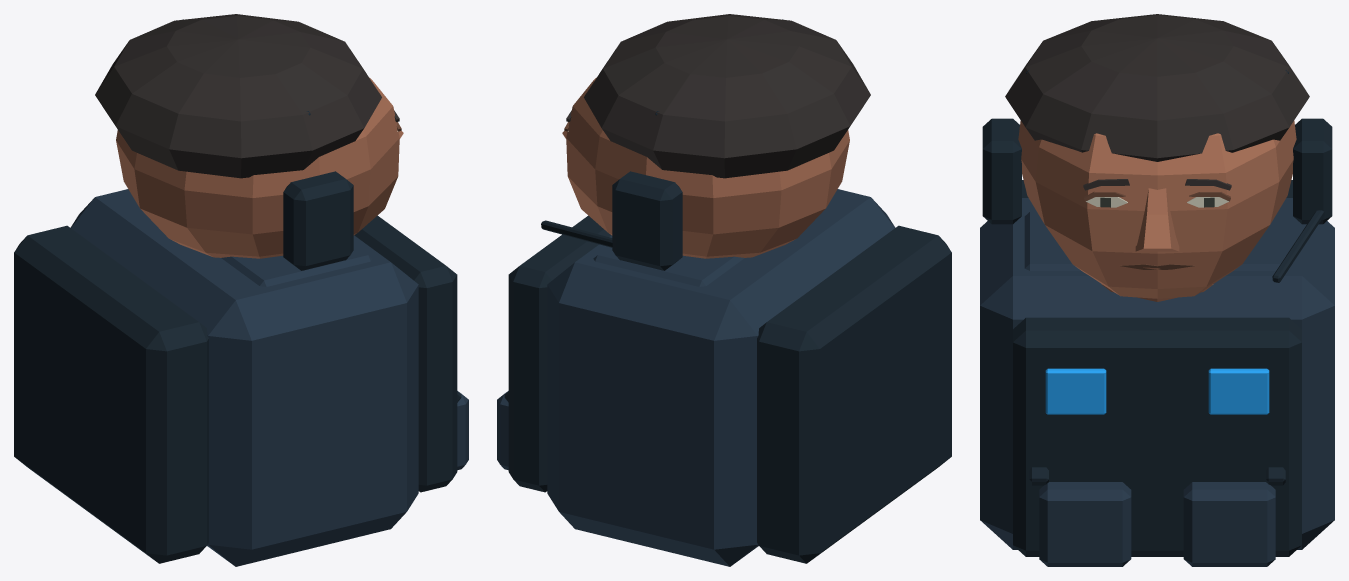
Rendered from blue-strike.helmet-off.glb.
3 views of the same model, side by side, from view 1: azimuth 30°, elevation 25°; view 2: azimuth 150°, elevation 25°; view 3: azimuth 270°, elevation 25° (orthographic). The views are drawn at different scales.
Parts seen in each view (by area): view 1: blue-strike_helmet-off__main__torso_finish_26384a_0.03, blue-strike_helmet-off__main__torso_finish_182631_0.03, blue-strike_helmet-off__main__head_finish_312d2c_0.03, blue-strike_helmet-off__main__head, blue-strike_helmet-off__main__head_finish_182631_0.03; view 2: blue-strike_helmet-off__main__torso_finish_26384a_0.03, blue-strike_helmet-off__main__torso_finish_182631_0.03, blue-strike_helmet-off__main__head_finish_312d2c_0.03, blue-strike_helmet-off__main__head, blue-strike_helmet-off__main__head_finish_182631_0.03; view 3: blue-strike_helmet-off__main__torso_finish_26384a_0.03, blue-strike_helmet-off__main__torso_finish_182631_0.03, blue-strike_helmet-off__main__head_finish_312d2c_0.03, blue-strike_helmet-off__main__head, blue-strike_helmet-off__main__head_finish_182631_0.03, blue-strike_helmet-off__main__torso_finish_25a8ff_0.03.
Boxes of the visible parts, box(x1,y1,x2,y2) form: blue-strike_helmet-off__main__torso_finish_26384a_0.03: box(70, 189, 468, 566); blue-strike_helmet-off__main__torso_finish_182631_0.03: box(14, 215, 461, 563); blue-strike_helmet-off__main__head_finish_312d2c_0.03: box(95, 14, 381, 178); blue-strike_helmet-off__main__head: box(116, 77, 403, 258); blue-strike_helmet-off__main__head_finish_182631_0.03: box(182, 19, 353, 270); blue-strike_helmet-off__main__torso_finish_26384a_0.03: box(497, 189, 895, 566); blue-strike_helmet-off__main__torso_finish_182631_0.03: box(504, 215, 951, 563); blue-strike_helmet-off__main__head_finish_312d2c_0.03: box(584, 14, 870, 178); blue-strike_helmet-off__main__head: box(562, 77, 849, 258); blue-strike_helmet-off__main__head_finish_182631_0.03: box(541, 19, 783, 270); blue-strike_helmet-off__main__torso_finish_26384a_0.03: box(980, 198, 1334, 566); blue-strike_helmet-off__main__torso_finish_182631_0.03: box(1013, 180, 1301, 556); blue-strike_helmet-off__main__head_finish_312d2c_0.03: box(1005, 14, 1309, 161); blue-strike_helmet-off__main__head: box(1018, 120, 1296, 298); blue-strike_helmet-off__main__head_finish_182631_0.03: box(982, 70, 1332, 282); blue-strike_helmet-off__main__torso_finish_25a8ff_0.03: box(1045, 368, 1269, 414).
Size of the model in its own units: 30.25 by 39.5 by 27.
